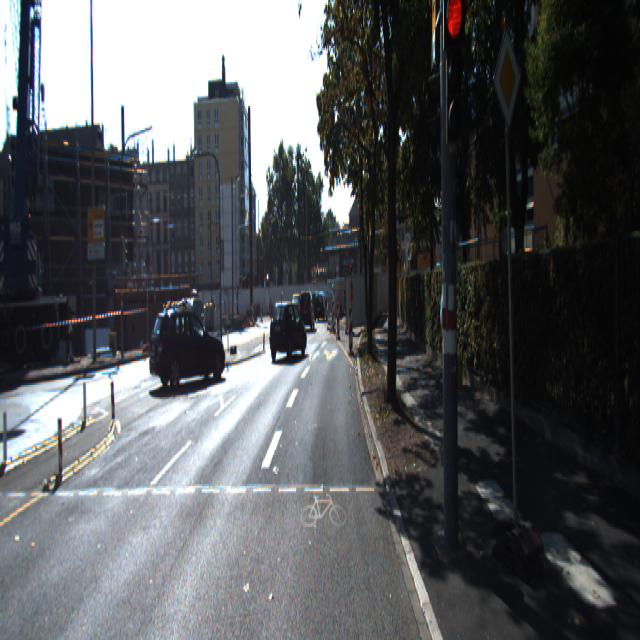Car: (146, 298, 227, 386), (267, 294, 308, 358), (170, 292, 205, 350), (290, 292, 304, 324)
